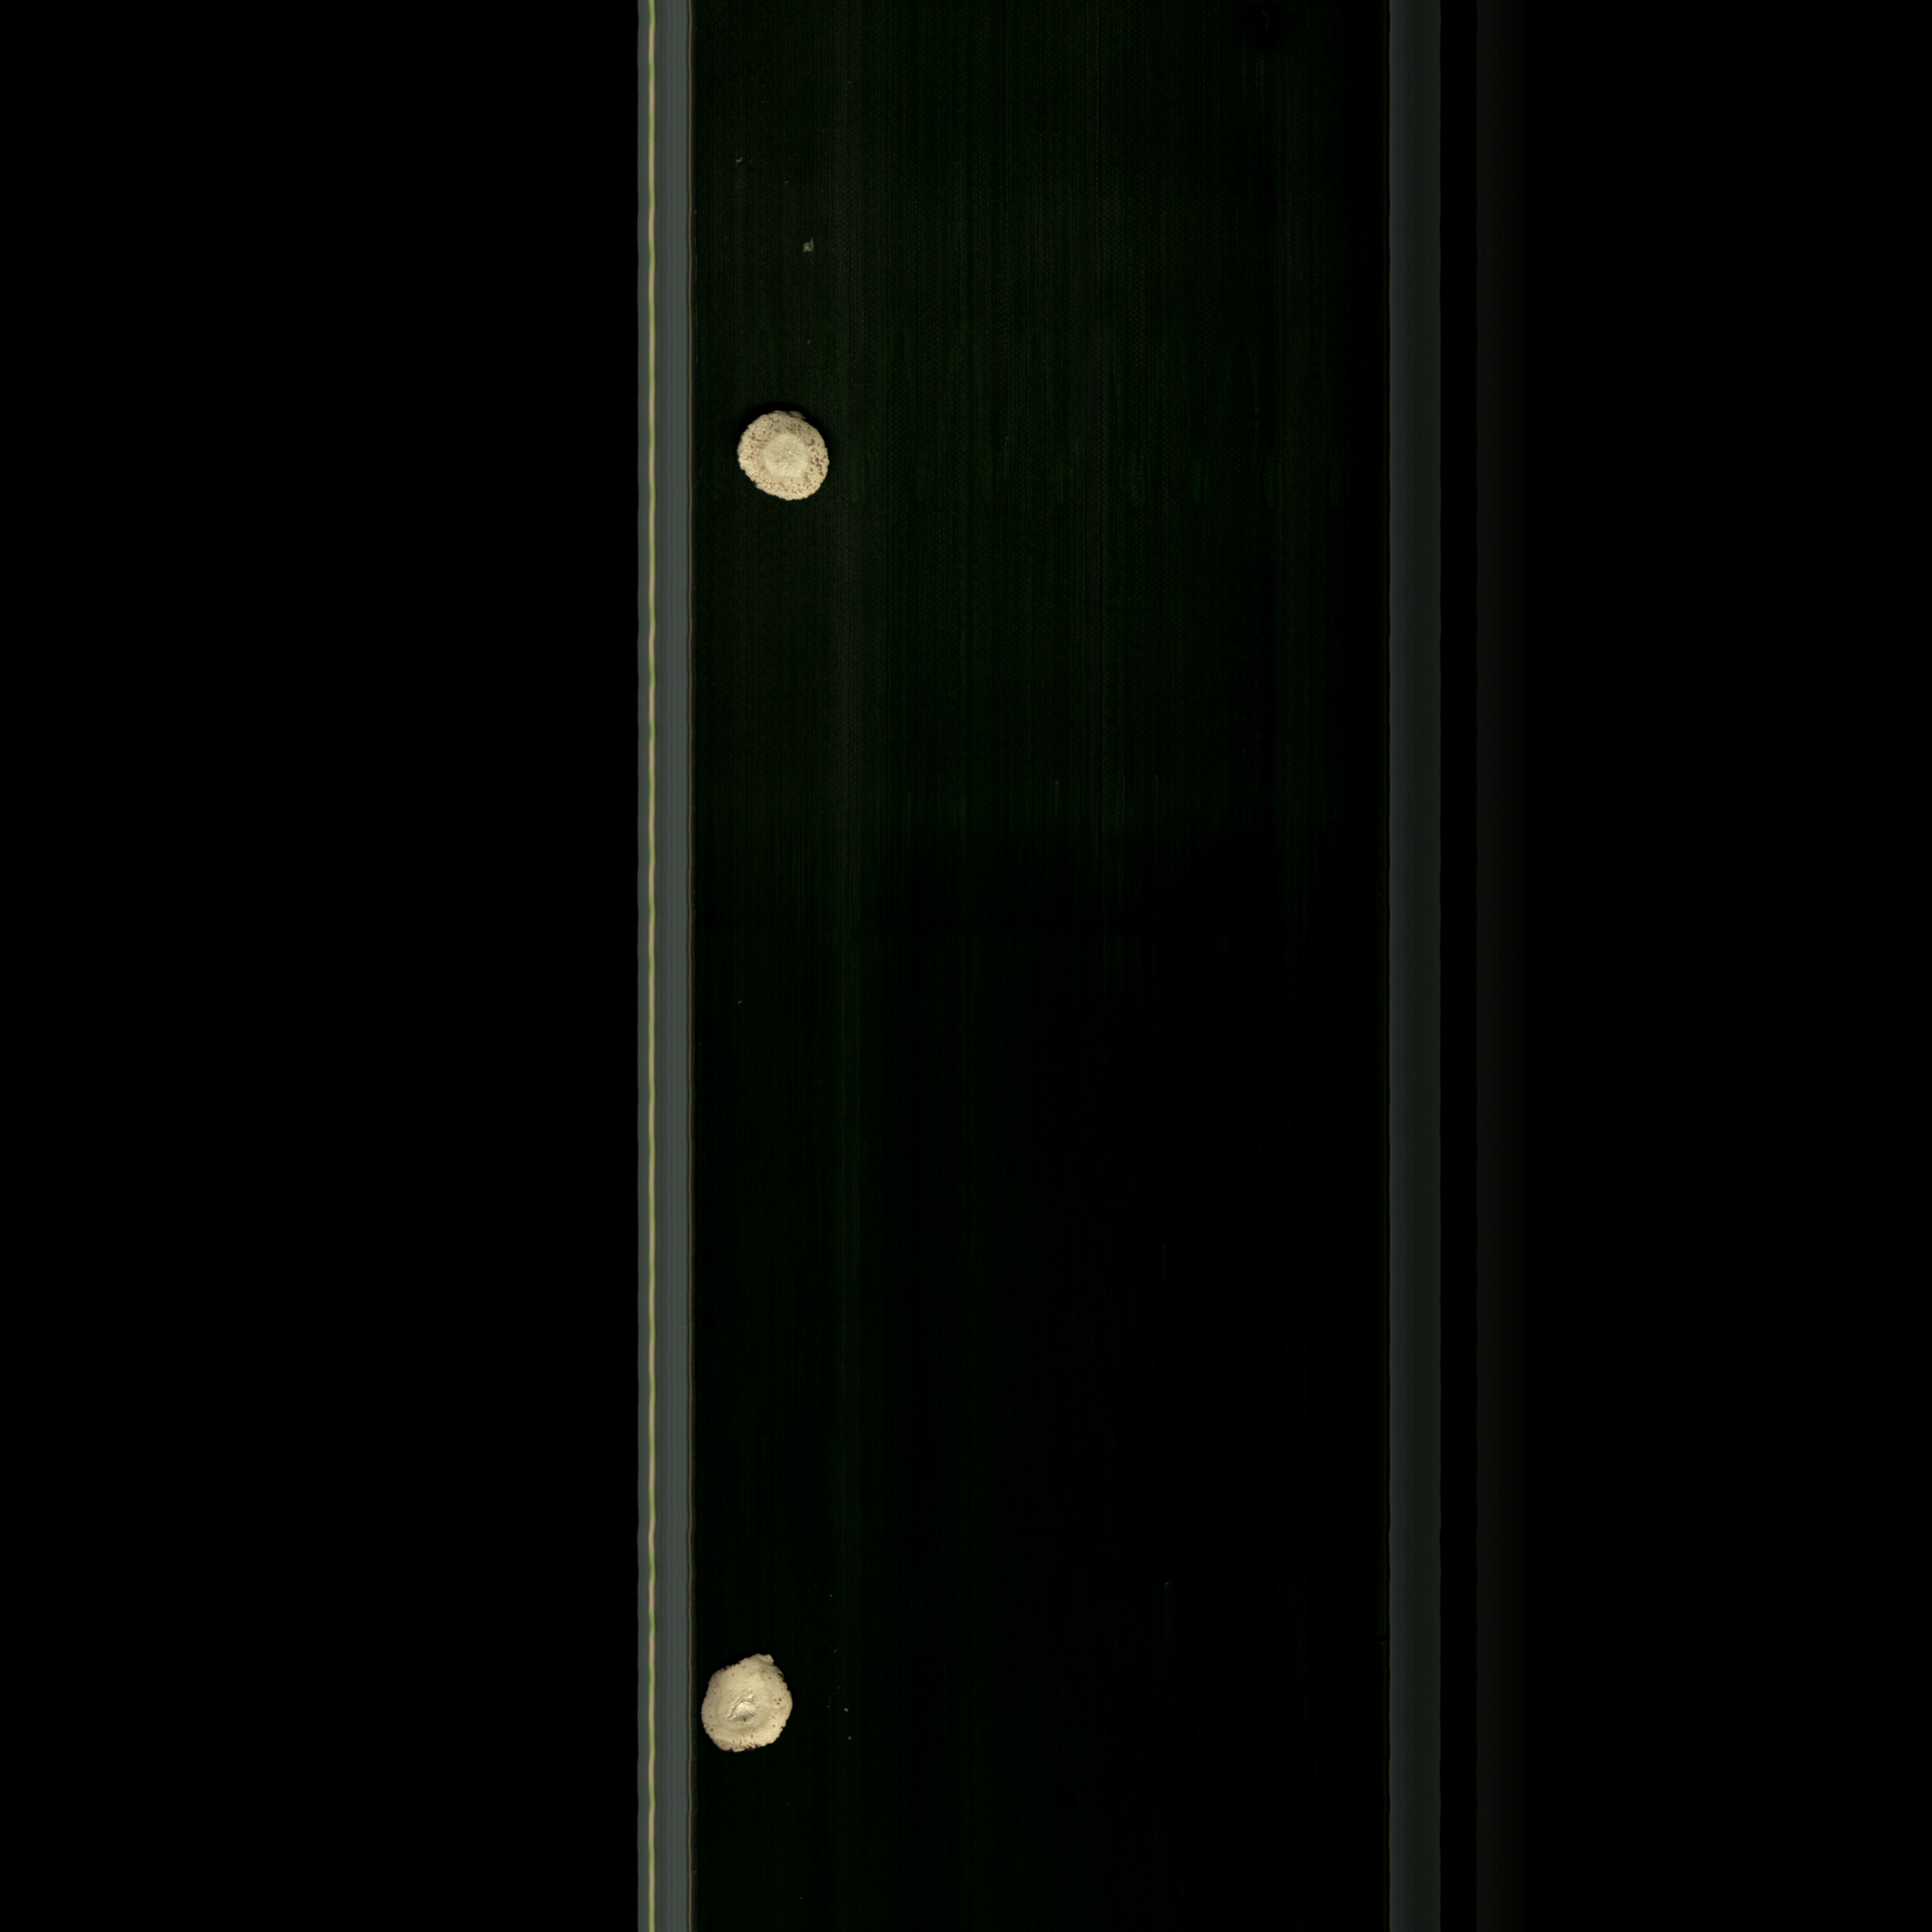distortion: (697, 1644, 809, 1760)
moldy: (724, 405, 839, 510)
